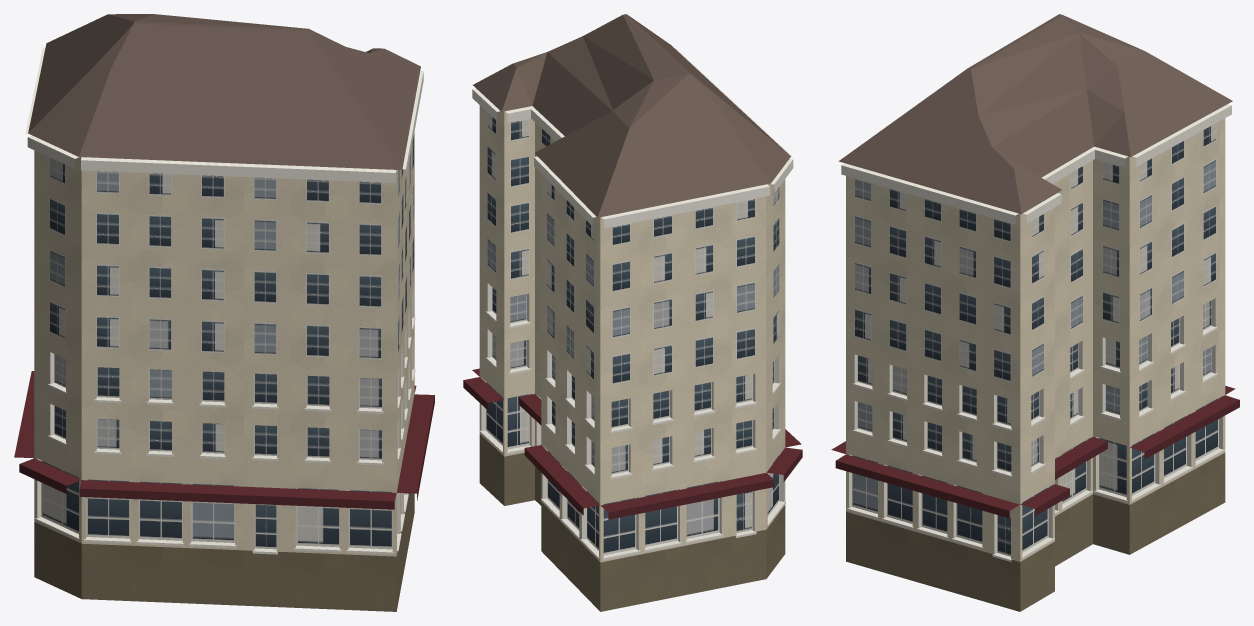
The model's file is z2_gaso26.glb.
3 renders of one model, left to right at view 1: azimuth 30°, elevation 25°; view 2: azimuth 150°, elevation 25°; view 3: azimuth 270°, elevation 25°, orthographic. The views are drawn at different scales.
Visible parts, largest first — view 1: z2_gaso26; view 2: z2_gaso26; view 3: z2_gaso26.
Boxes of the visible parts, x1=… form: z2_gaso26: x1=14, y1=14, x2=434, y2=611; z2_gaso26: x1=463, y1=14, x2=802, y2=611; z2_gaso26: x1=831, y1=14, x2=1239, y2=611.
Size of the model in its own units: 21.67 by 29.08 by 22.25.
3 materials, 3 textured.
